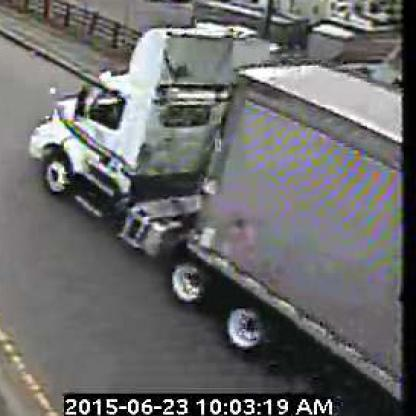container: (29, 30, 416, 392)
